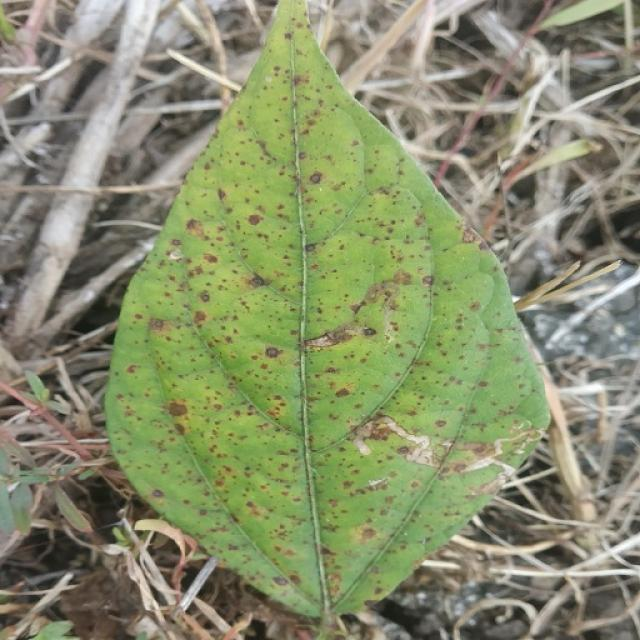Anthracnose: (184, 179, 428, 447), (300, 286, 420, 446), (295, 98, 365, 233), (212, 326, 302, 425), (458, 341, 538, 431), (304, 230, 375, 331), (428, 241, 493, 317), (353, 416, 438, 464), (460, 425, 541, 473), (179, 211, 226, 284), (351, 273, 408, 321), (202, 459, 262, 499), (458, 454, 521, 487), (192, 507, 245, 543), (302, 324, 372, 349), (346, 513, 387, 551), (163, 395, 194, 430), (404, 436, 440, 466), (380, 292, 399, 344), (472, 473, 509, 496), (315, 609, 340, 635), (351, 433, 372, 457), (365, 423, 392, 441), (390, 268, 413, 286), (166, 401, 188, 418), (366, 476, 389, 491), (512, 419, 533, 433), (462, 227, 478, 243), (246, 213, 263, 226), (248, 274, 265, 287), (148, 318, 164, 331), (264, 346, 281, 358), (193, 310, 207, 324), (168, 249, 184, 261), (334, 387, 351, 398), (309, 171, 323, 184), (291, 74, 305, 86), (272, 576, 288, 586), (362, 326, 376, 336), (397, 445, 410, 455), (304, 242, 317, 252), (364, 599, 377, 609), (151, 489, 164, 498), (369, 565, 380, 574), (200, 293, 210, 302), (297, 151, 307, 160), (417, 538, 428, 546), (284, 32, 293, 40), (265, 76, 272, 83), (403, 531, 409, 538)
Blackgram: (105, 0, 549, 616)
